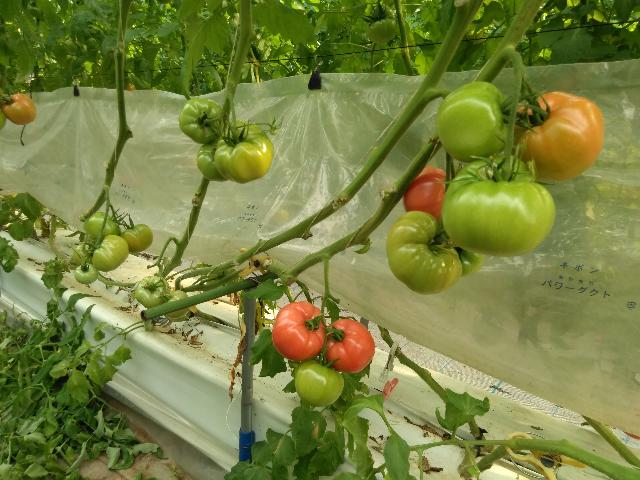b_fully_ripened: (271, 301, 326, 361), (403, 168, 455, 231), (323, 319, 376, 373)
b_green: (442, 155, 557, 257), (385, 210, 463, 295), (436, 82, 511, 162), (214, 120, 274, 184), (295, 358, 344, 407), (178, 99, 225, 145), (197, 139, 229, 182), (92, 236, 129, 272), (366, 3, 397, 44), (135, 276, 170, 309), (85, 211, 121, 243), (451, 243, 485, 276), (119, 224, 153, 253), (164, 290, 190, 318), (73, 242, 99, 267), (74, 263, 99, 285), (270, 127, 278, 135)
b_half_ripened: (510, 91, 605, 182), (1, 92, 38, 126)
